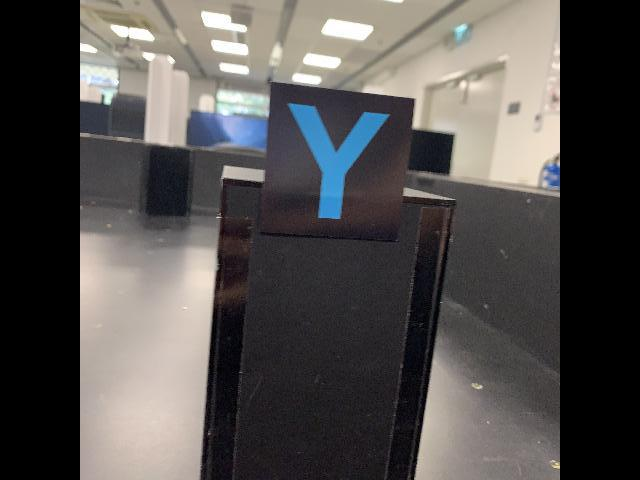y: (257, 80, 418, 248)
